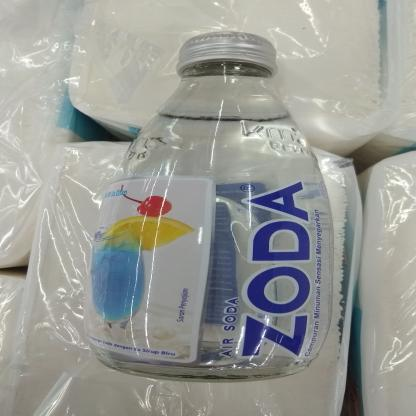glass: (84, 28, 346, 380)
